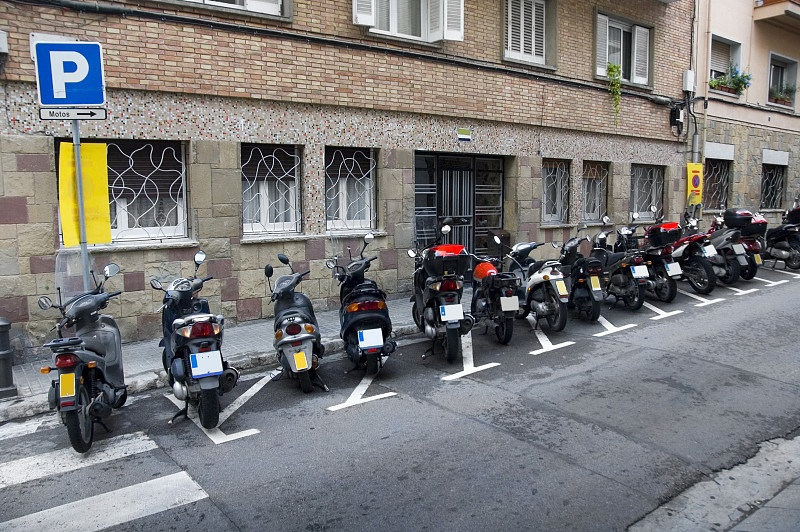non-vehicle: (45, 266, 137, 442), (151, 251, 235, 431), (331, 249, 399, 379), (257, 265, 327, 388), (409, 238, 484, 352), (613, 213, 687, 302), (584, 223, 647, 315), (700, 207, 771, 286), (654, 206, 718, 291), (505, 237, 558, 337), (553, 233, 605, 322), (474, 247, 516, 348), (765, 210, 800, 278)
